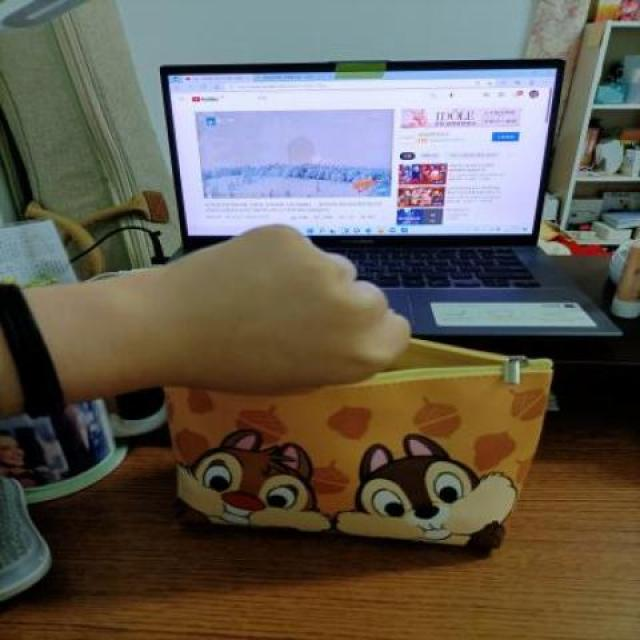Closed Hand: (142, 223, 419, 402)
